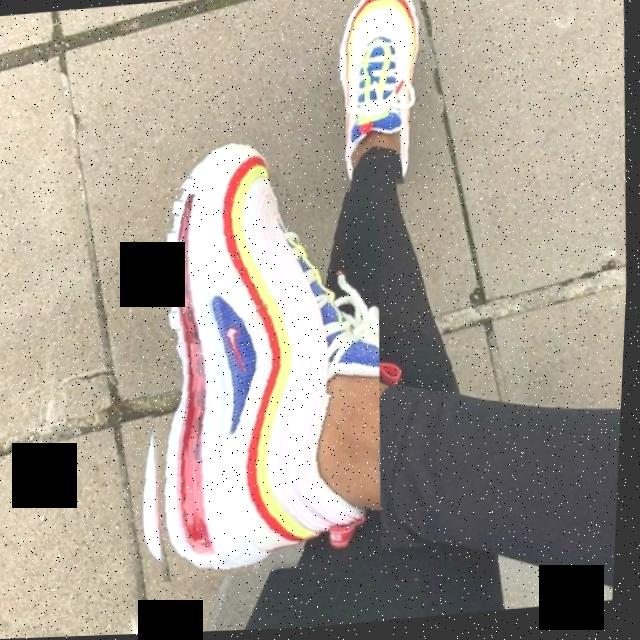shoe: (118, 117, 402, 587), (322, 0, 442, 196)
